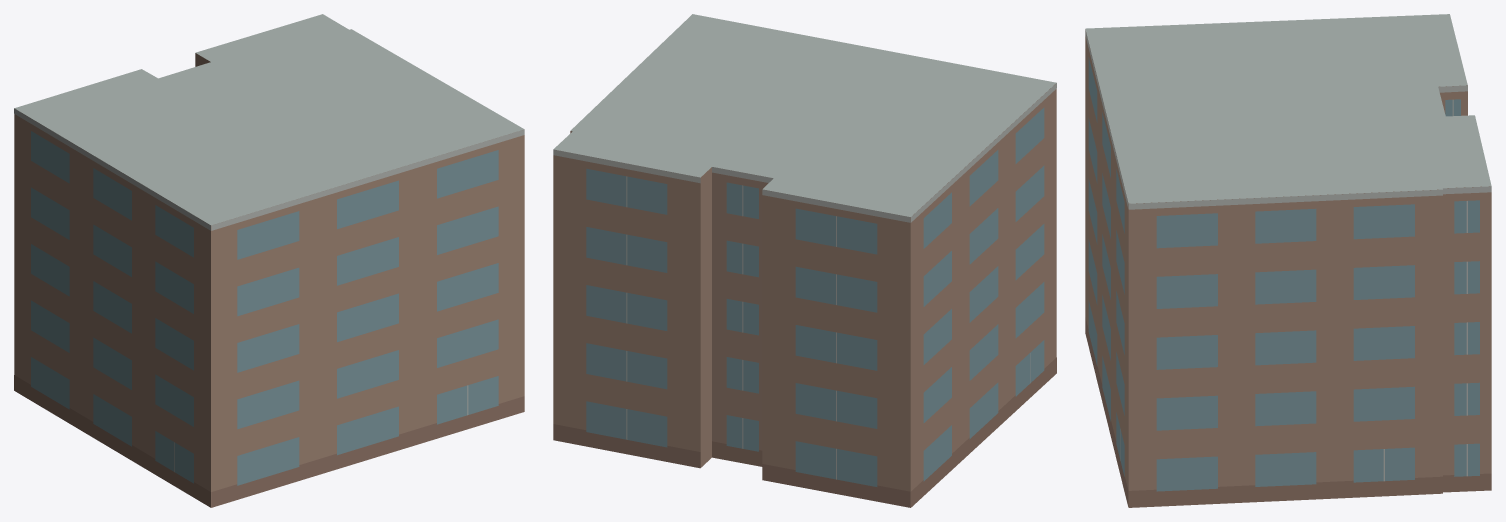
The model's file is survey-upis-32659573.glb.
The picture shows the model from 3 angles, left to right: view 1: azimuth 30°, elevation 25°; view 2: azimuth 150°, elevation 25°; view 3: azimuth 270°, elevation 25°; orthographic projection. The views are drawn at different scales.
Parts seen in each view (by area): view 1: survey-upis-32659573.tmp; view 2: survey-upis-32659573.tmp; view 3: survey-upis-32659573.tmp.
Part boxes in pixels (bbox=[...]): survey-upis-32659573.tmp: bbox=[14, 14, 524, 507]; survey-upis-32659573.tmp: bbox=[553, 14, 1056, 507]; survey-upis-32659573.tmp: bbox=[1085, 14, 1491, 507].
Bounding box in the file's own units: 16.61 × 12.4 × 15.03.
